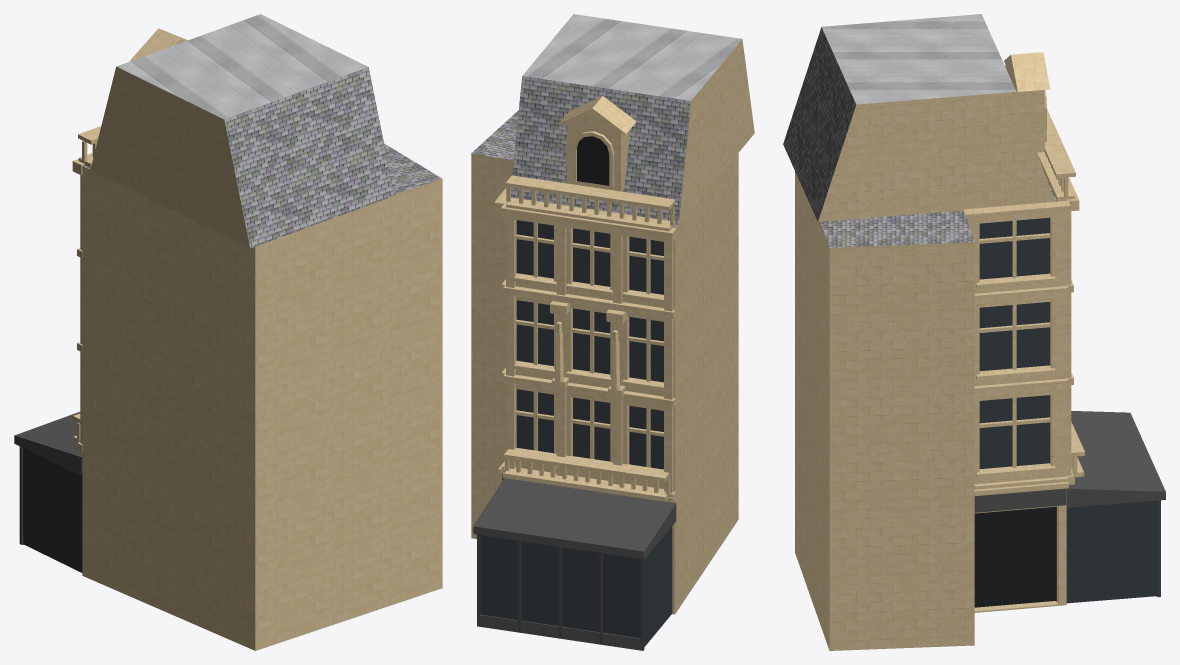
3 views of the same model, side by side, from view 1: azimuth 30°, elevation 25°; view 2: azimuth 150°, elevation 25°; view 3: azimuth 270°, elevation 25° (orthographic). The views are drawn at different scales.
Parts seen in each view (by area): view 1: bldg_496944391_landmark; view 2: bldg_496944391_landmark; view 3: bldg_496944391_landmark.
Part boxes in pixels (x1,y1,x2,y2): bldg_496944391_landmark: (14,14,442,650); bldg_496944391_landmark: (471,14,754,650); bldg_496944391_landmark: (783,14,1165,650).
Size of the model in its own units: 10.41 by 19 by 12.74.
8 materials, 3 textured.
